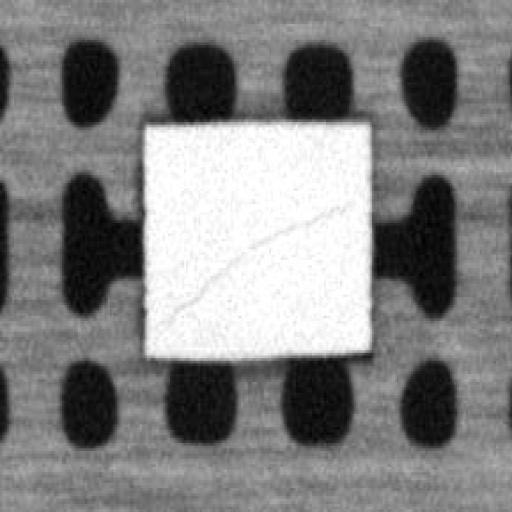DIE_CRACK: (167, 202, 347, 313)
